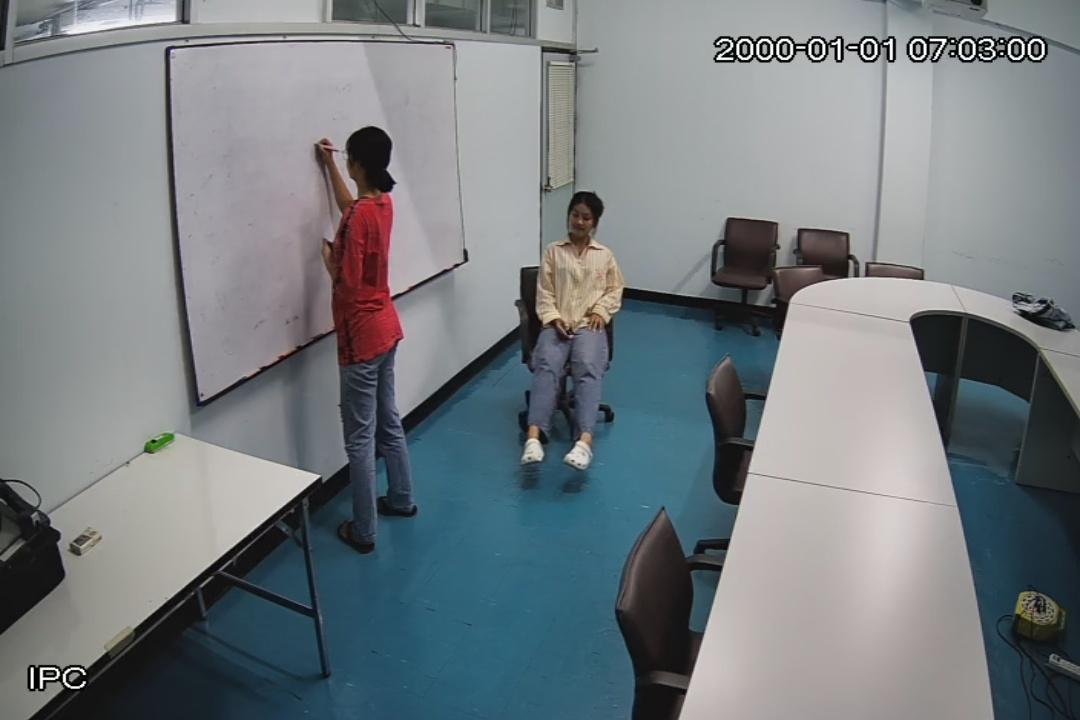normal: (312, 124, 419, 555), (514, 189, 627, 473)
